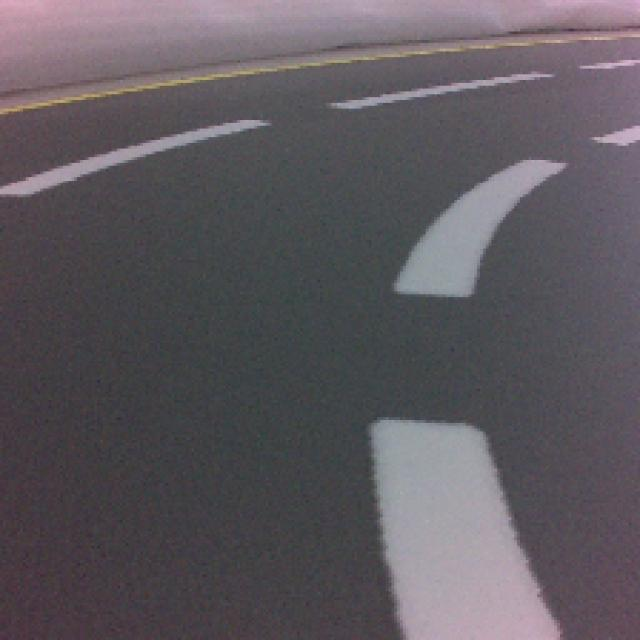Pedestrian crosswalk: (372, 424, 556, 640)
